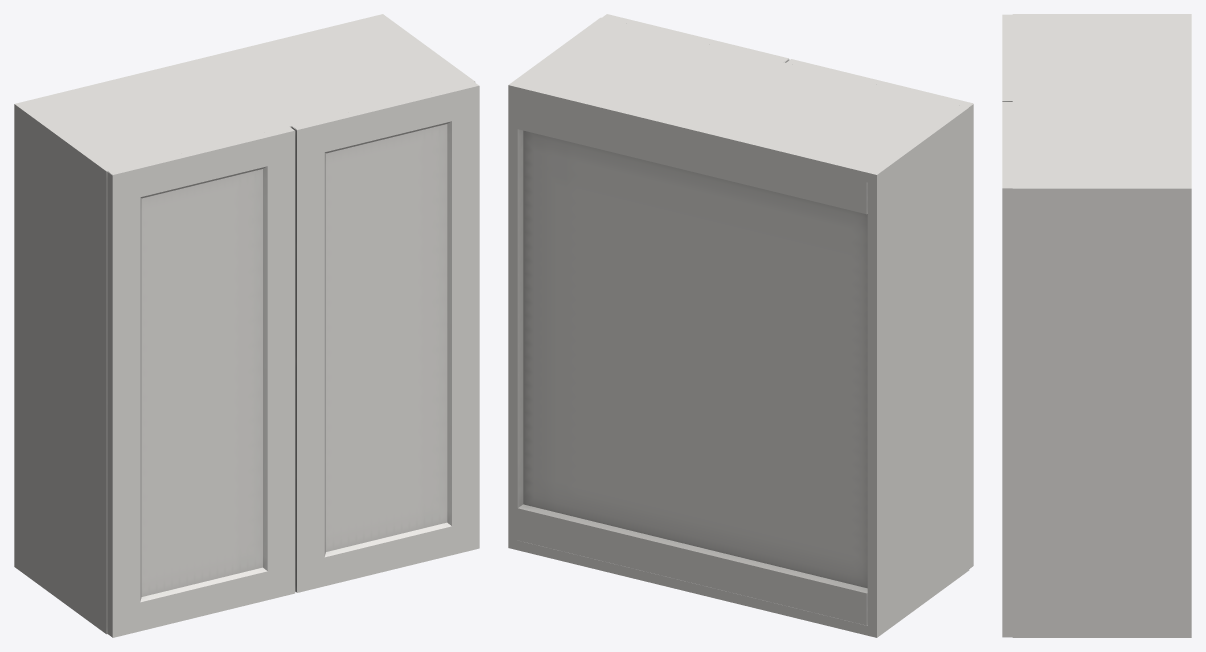
The model's file is wall-2-door-doors-on.glb.
3 views of the same model, side by side, from view 1: azimuth 30°, elevation 25°; view 2: azimuth 150°, elevation 25°; view 3: azimuth 270°, elevation 25° (orthographic). The views are drawn at different scales.
Parts seen in each view (by area): view 1: part_15, part_0; view 2: part_0, part_15; view 3: part_0, part_15.
Part boxes in pixels (box(x1,y1,x2,y2)): part_15: box(107, 82, 479, 637); part_0: box(14, 14, 475, 634); part_0: box(508, 17, 969, 637); part_15: box(602, 14, 973, 568); part_0: box(1012, 14, 1191, 637); part_15: box(1002, 14, 1012, 637).
Size of the model in its own units: 0.762 by 0.9144 by 0.3492.
Materials: 2 (2 with a texture image).
